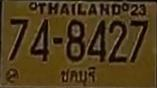2: (108, 19, 126, 62)
4: (88, 19, 106, 61), (30, 18, 48, 60)
7: (8, 18, 28, 60), (130, 19, 148, 62)
8: (66, 18, 84, 60)
CBI: (59, 62, 99, 87)
